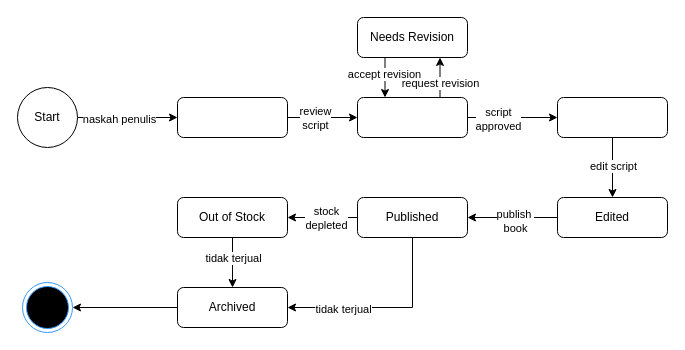
The diagram is 685 pixels wide and 350 high, and some of its shapes have lost their labels. The centre of each missing label's shape, as x and y in pixels:
"Approved" goes at (612,117).
"Draft" goes at (232,117).
"Under Review" goes at (412,117).
